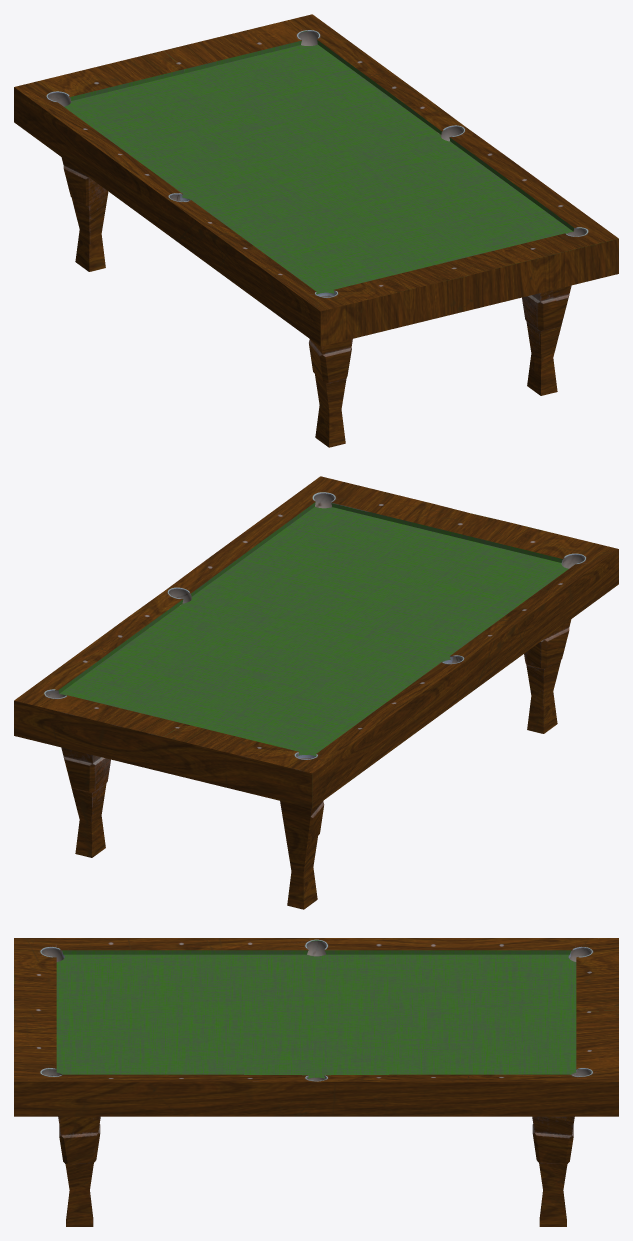
The model's file is Billar.fbx.
3 renders of one model, top to bottom at view 1: azimuth 30°, elevation 25°; view 2: azimuth 150°, elevation 25°; view 3: azimuth 270°, elevation 25°, orthographic.
Parts seen in each view (by area): view 1: billiard; view 2: billiard; view 3: billiard.
Boxes of the visible parts, x1,y1,x2,y2 form: billiard: (14,14,618,447); billiard: (14,476,618,909); billiard: (14,938,618,1226).
Bounding box in the file's own units: 163 × 85.68 × 290.
